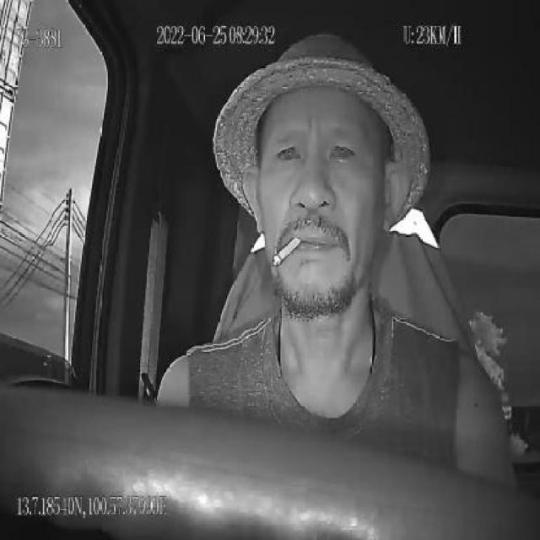smoking: (273, 236, 301, 269)
